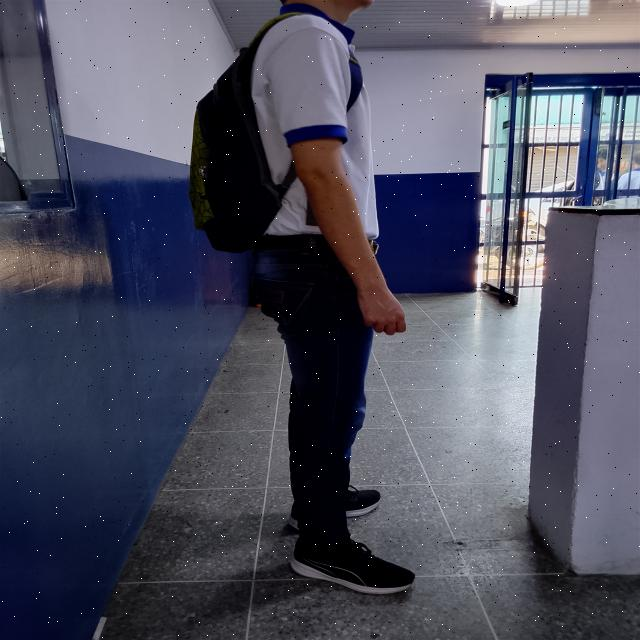pantalon_oscuro: (252, 246, 374, 550)
uniforme_superior: (251, 2, 380, 240)
